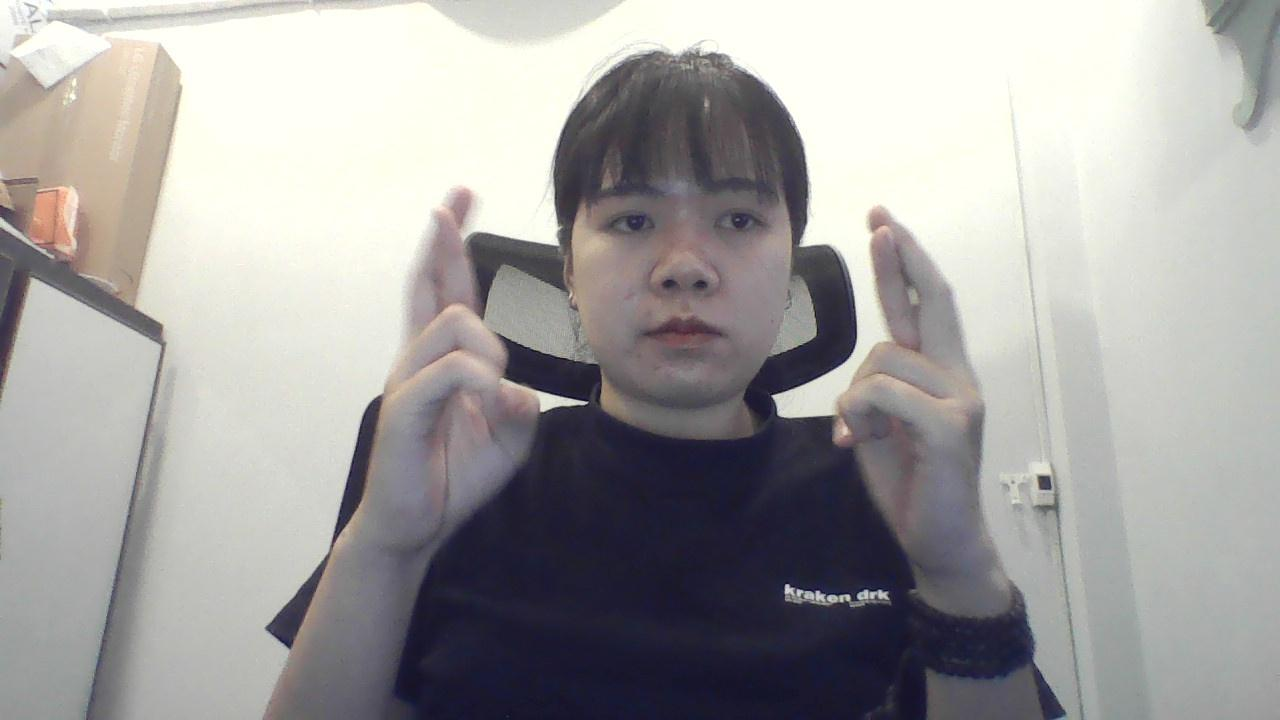R: (350, 164, 535, 570), (824, 189, 995, 591)
